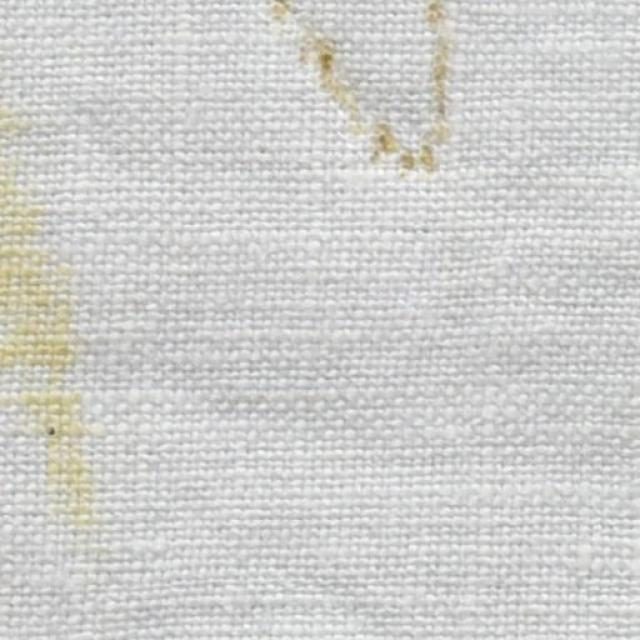Stain: (0, 106, 111, 539), (270, 0, 455, 170)
